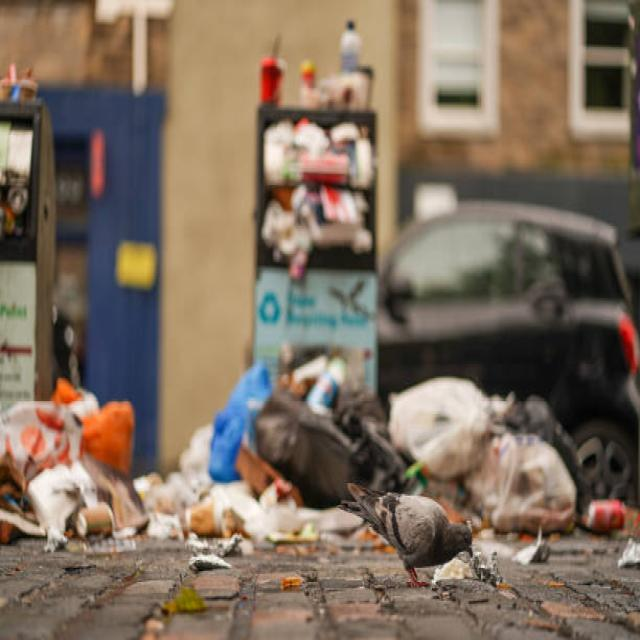trash: (1, 342, 603, 579), (255, 28, 389, 306)
